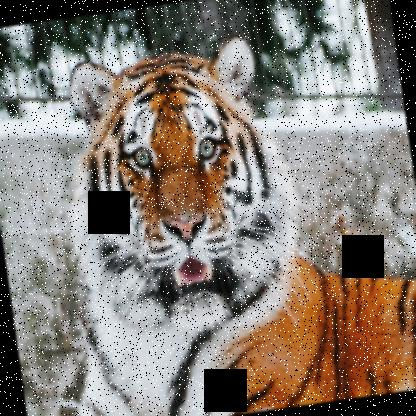Panthera tigris: (18, 15, 415, 415)
